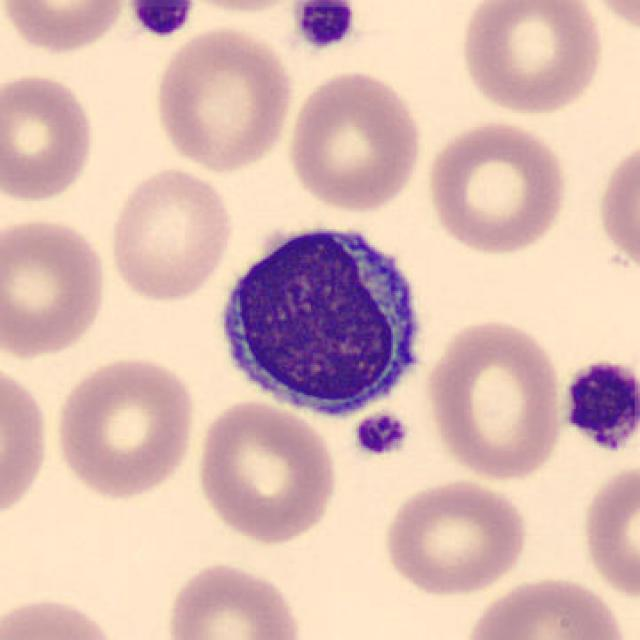Lymphocyte: (204, 211, 428, 425)
Platelets: (554, 352, 640, 456), (288, 0, 359, 53), (350, 409, 412, 460), (123, 0, 199, 39)
RBC: (421, 314, 567, 483), (50, 352, 199, 502), (149, 23, 297, 174), (192, 396, 340, 546), (421, 116, 571, 258), (283, 67, 427, 213), (378, 474, 532, 598), (105, 164, 236, 303), (455, 0, 608, 118), (0, 214, 112, 362), (0, 69, 98, 206), (160, 557, 308, 640), (459, 573, 631, 640), (576, 458, 640, 605), (0, 357, 53, 527), (0, 0, 130, 55), (594, 132, 638, 286), (0, 590, 126, 640), (148, 0, 318, 16), (581, 0, 640, 39)
